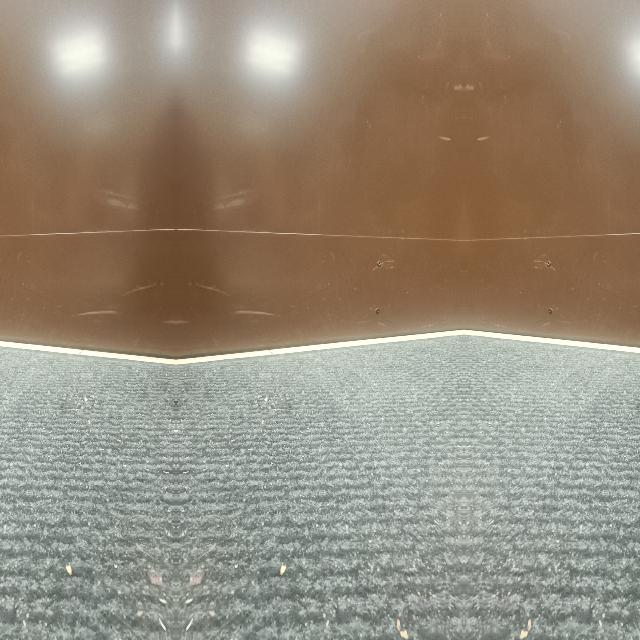obstacle: (176, 132, 464, 354), (463, 131, 640, 354), (0, 131, 173, 354)
